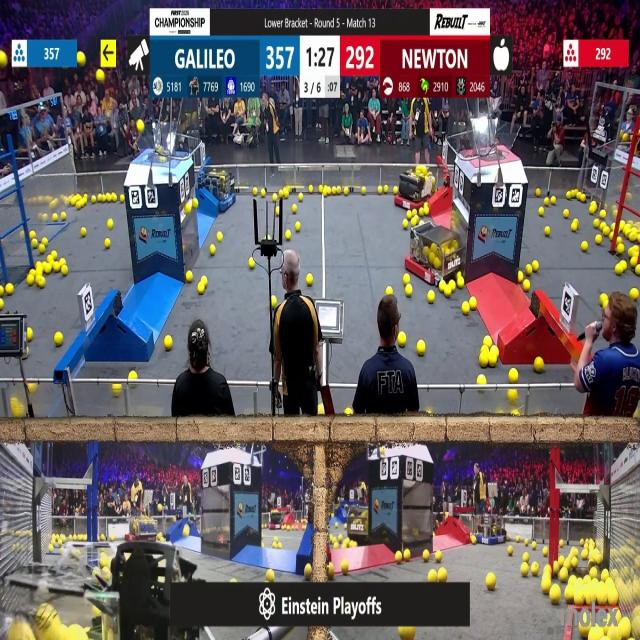ball_airborne: (0, 53, 7, 67), (137, 120, 145, 132), (98, 70, 106, 81)
ball_ground: (550, 586, 562, 604), (400, 626, 415, 640), (486, 573, 496, 589), (489, 348, 498, 365), (534, 357, 543, 372), (55, 333, 64, 348), (565, 588, 573, 604), (417, 342, 426, 356), (267, 568, 276, 582), (510, 368, 519, 381), (397, 334, 405, 348), (305, 564, 313, 578), (165, 338, 173, 352), (560, 568, 568, 582), (439, 569, 448, 581), (509, 389, 518, 401), (522, 563, 530, 576), (600, 293, 608, 306), (540, 581, 548, 594), (427, 570, 436, 581), (617, 264, 625, 276), (36, 276, 44, 288), (402, 550, 410, 562), (28, 275, 36, 287), (468, 296, 476, 308), (481, 354, 489, 366), (342, 560, 349, 573), (630, 288, 638, 299), (307, 274, 314, 286), (27, 328, 34, 340), (462, 304, 469, 316), (531, 562, 538, 574), (5, 284, 13, 294), (630, 256, 638, 266), (44, 265, 52, 275), (185, 272, 192, 283), (406, 285, 413, 296), (602, 225, 609, 236), (396, 552, 402, 564), (524, 280, 530, 292), (428, 290, 434, 302), (484, 338, 492, 347), (272, 295, 278, 307), (535, 263, 541, 275), (526, 264, 532, 276), (516, 272, 522, 284), (198, 284, 205, 294), (130, 369, 137, 379), (618, 244, 625, 254), (317, 407, 324, 417), (412, 216, 419, 226), (440, 281, 447, 291), (589, 205, 596, 215), (458, 278, 464, 289), (248, 257, 254, 268), (183, 526, 189, 537), (446, 286, 452, 297), (55, 265, 61, 276), (112, 384, 120, 392), (542, 565, 550, 573), (479, 376, 486, 385), (36, 264, 43, 273), (577, 192, 584, 201), (435, 552, 441, 562), (210, 245, 216, 255), (423, 552, 429, 562), (571, 220, 577, 230), (403, 275, 409, 285), (583, 242, 589, 252), (596, 236, 602, 246), (62, 267, 68, 277), (571, 558, 577, 568), (185, 204, 191, 214), (328, 563, 333, 575), (554, 562, 560, 572), (523, 554, 530, 562), (285, 232, 292, 240), (538, 207, 544, 216), (291, 205, 297, 214), (543, 226, 549, 235), (402, 219, 408, 228), (551, 197, 557, 206), (32, 240, 38, 249), (423, 207, 429, 216), (284, 189, 290, 198), (451, 280, 457, 289), (507, 544, 512, 554), (217, 233, 222, 243), (635, 267, 640, 277), (108, 218, 113, 228), (542, 548, 547, 558), (600, 210, 605, 220), (51, 250, 56, 260), (322, 189, 329, 196), (482, 346, 489, 353), (564, 210, 570, 218), (60, 257, 66, 265), (259, 188, 265, 196), (608, 232, 614, 240), (594, 220, 600, 228), (202, 277, 208, 285), (524, 538, 530, 546), (62, 212, 68, 220), (276, 207, 281, 216), (80, 229, 85, 238), (39, 245, 44, 254), (408, 210, 413, 219), (0, 300, 4, 311), (0, 285, 4, 296), (346, 410, 352, 417), (378, 186, 384, 193), (534, 188, 540, 195), (513, 412, 520, 418), (41, 238, 47, 245), (30, 233, 36, 240), (98, 193, 104, 200), (387, 286, 392, 294), (105, 240, 110, 248), (470, 536, 475, 544), (54, 214, 59, 222), (393, 186, 398, 194), (76, 202, 81, 210), (565, 194, 570, 202), (339, 534, 344, 542), (617, 237, 622, 245), (106, 192, 111, 200), (457, 272, 462, 280), (295, 222, 299, 231), (232, 577, 238, 583), (192, 200, 196, 209), (496, 411, 502, 417), (309, 185, 314, 192), (273, 193, 278, 200), (93, 195, 98, 202), (252, 188, 257, 195), (351, 540, 356, 547), (298, 192, 302, 200), (532, 540, 536, 548), (119, 194, 123, 202), (361, 186, 365, 194), (544, 199, 548, 207), (345, 187, 349, 195), (384, 185, 388, 193), (112, 192, 116, 200), (517, 535, 521, 542), (560, 539, 564, 546), (273, 542, 277, 548), (60, 547, 64, 553), (337, 522, 341, 528)
goal: (466, 120, 520, 160), (126, 128, 188, 160)
robot_blue: (198, 165, 236, 212), (346, 504, 370, 541), (475, 516, 506, 544)
robot_red: (406, 223, 462, 285), (398, 163, 438, 208), (128, 516, 161, 542), (268, 512, 286, 530)
